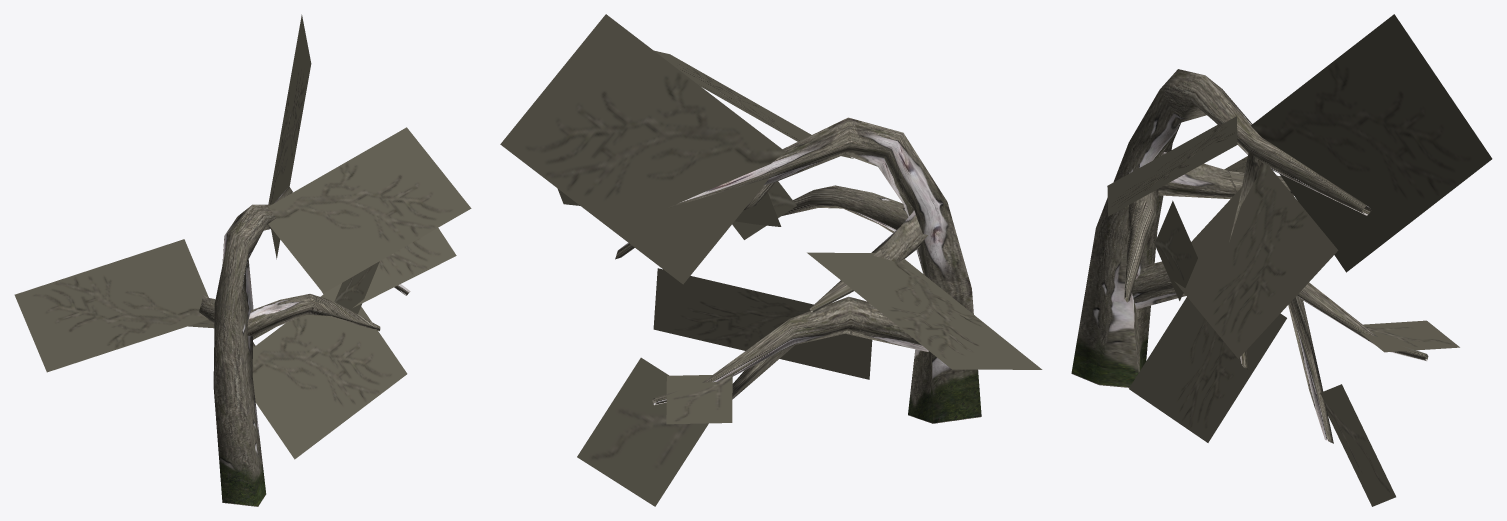
Rendered from big dead tree_02.fbx.
3 views of the same model, side by side, from view 1: azimuth 30°, elevation 25°; view 2: azimuth 150°, elevation 25°; view 3: azimuth 270°, elevation 25° (orthographic). The views are drawn at different scales.
Parts seen in each view (by area): view 1: polySurface840; view 2: polySurface840; view 3: polySurface840.
Part boxes in pixels (left/top/right/bottom): polySurface840: left=14, top=14, right=471, bottom=506; polySurface840: left=500, top=14, right=1042, bottom=506; polySurface840: left=1071, top=14, right=1492, bottom=506.
Bounding box in the file's own units: 3.31 × 3.15 × 2.34.
